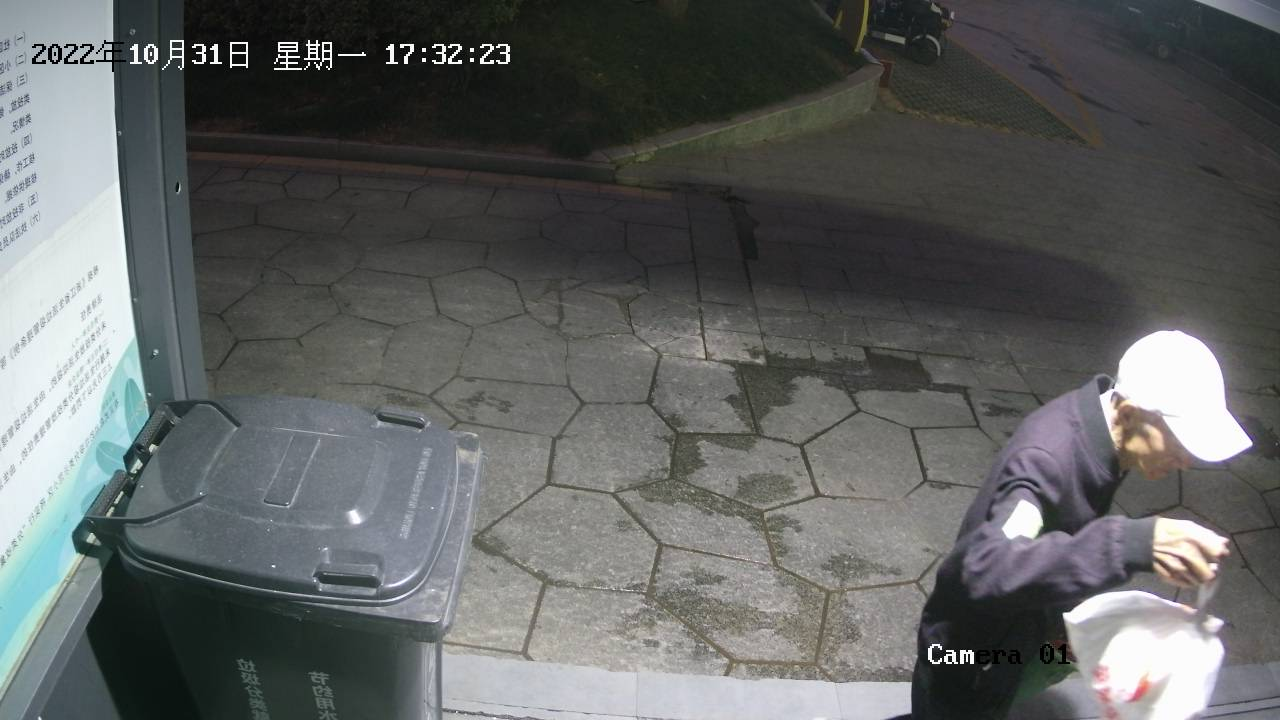garbage-bag: (1060, 563, 1228, 720)
person: (877, 328, 1253, 720)
